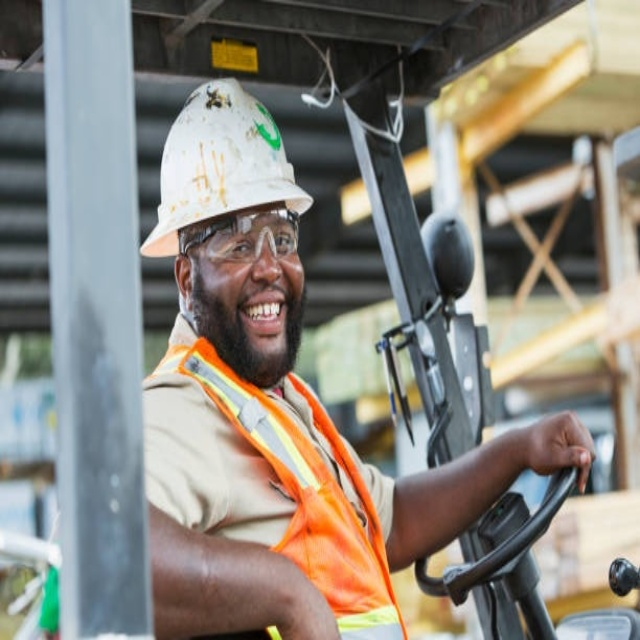Gafas: (184, 210, 303, 266)
Sin_guantes: (523, 403, 596, 494)
Sin_mascara: (235, 285, 292, 334)
